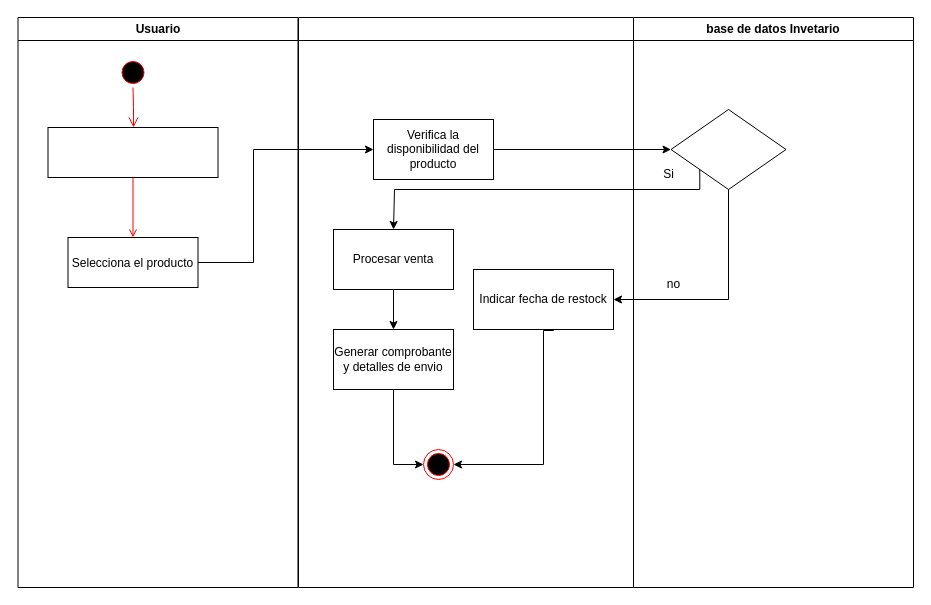
The diagram is 931 pixels wide and 605 high, and some of its shapes have lost their labels. The shapes that lost their labels are listed below. From the top down, each one's box as (x1, y1, x2, y2) in pixels, then its label:
(47, 126, 218, 178): Navega el catalogo de la tienda
(670, 108, 786, 190): Hay stock del Producto?
(298, 16, 634, 588): Sistema
